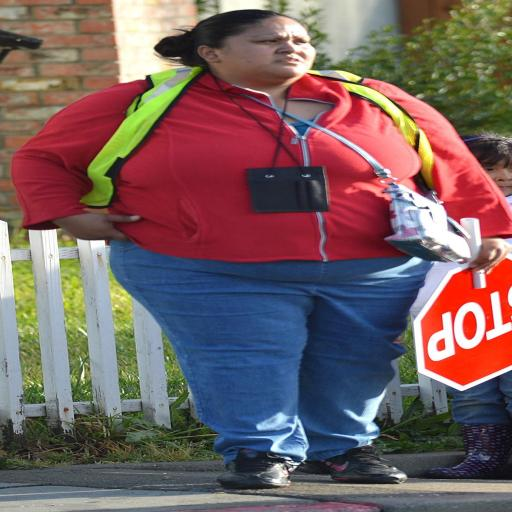person: (13, 10, 511, 488), (424, 372, 511, 479)
